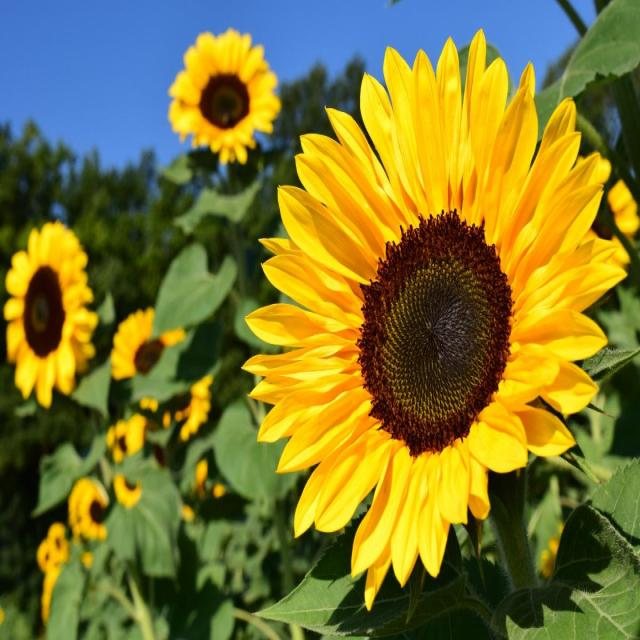sunflower: (232, 22, 640, 612), (2, 213, 100, 419), (168, 24, 282, 170), (103, 305, 194, 399)
